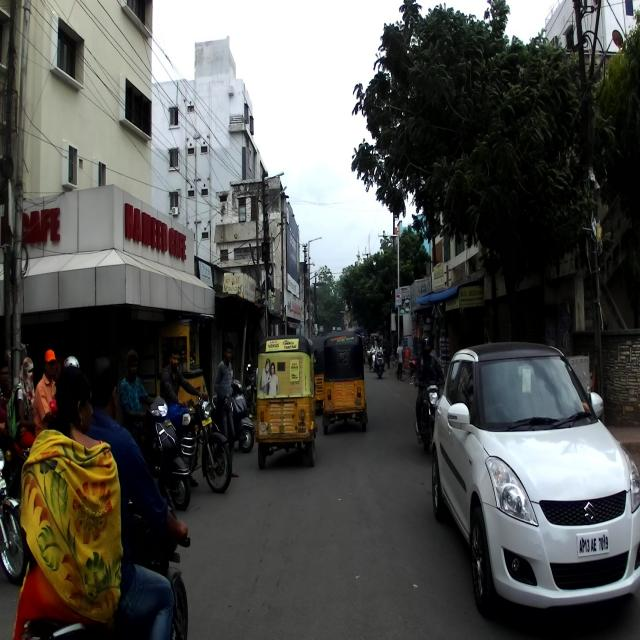autorickshaw: (254, 332, 320, 470), (321, 332, 369, 434)
car: (428, 328, 640, 621)
motorcycle: (8, 478, 190, 640), (175, 391, 233, 494), (413, 376, 447, 456)
scooter: (130, 393, 192, 511), (210, 376, 256, 456)
